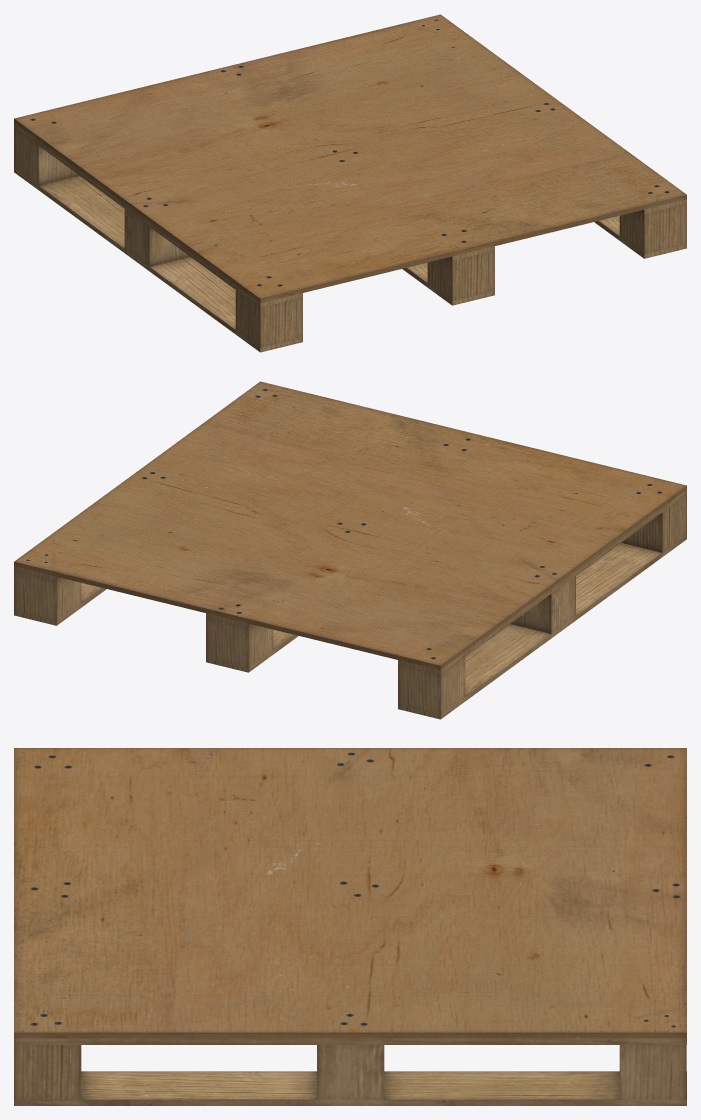
The model's file is palet_eski_b.gltf.
The picture shows the model from 3 angles, top to bottom: view 1: azimuth 30°, elevation 25°; view 2: azimuth 150°, elevation 25°; view 3: azimuth 270°, elevation 25°; orthographic projection. The views are drawn at different scales.
Parts seen in each view (by area): view 1: palet_eski_b; view 2: palet_eski_b; view 3: palet_eski_b.
Boxes of the visible parts, box(x1,y1,x2,y2) form: palet_eski_b: box(14, 14, 686, 352); palet_eski_b: box(14, 381, 686, 719); palet_eski_b: box(14, 748, 686, 1105).
Size of what is drawn, in the model's own units: 1.2 by 0.1444 by 1.2.
Materials: 1 (1 with a texture image).
